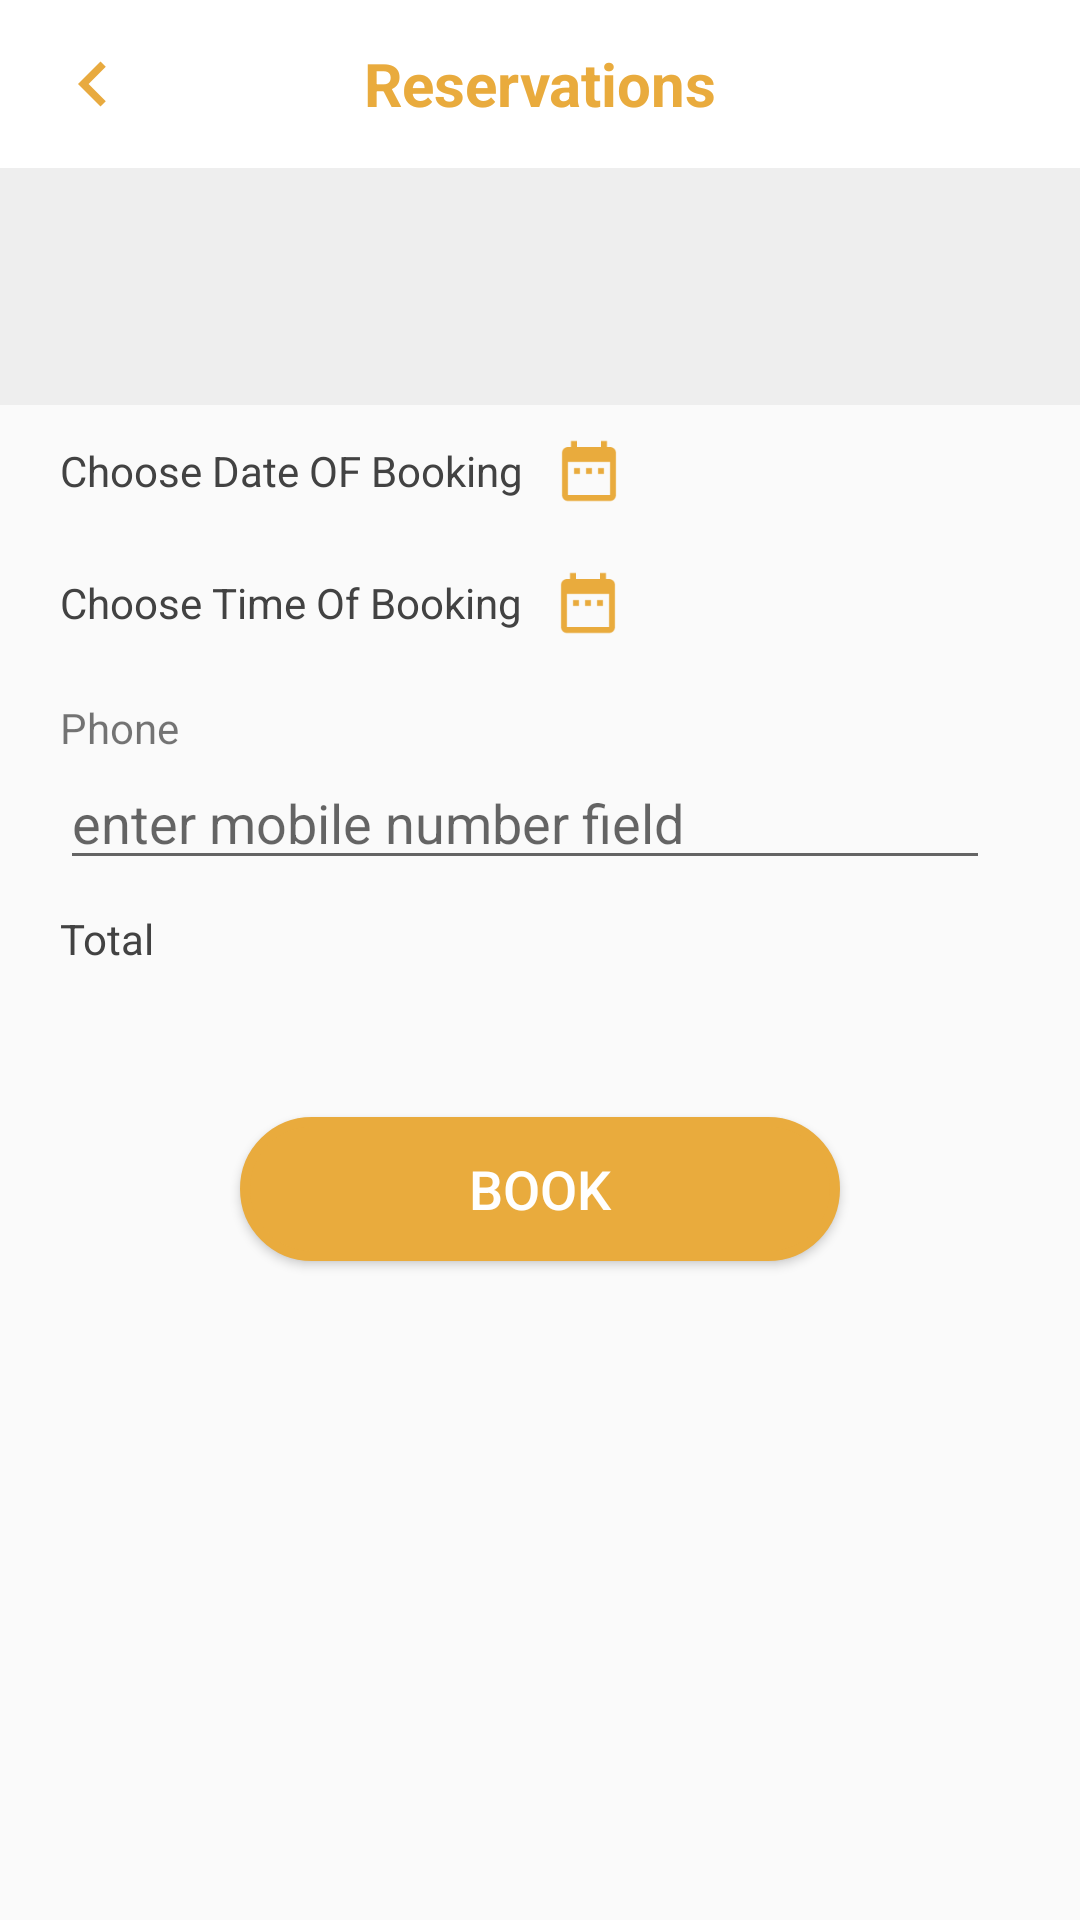

Named icons in this screenshot (1080w x 1920h) and their bounding boxes, bbox=[x1, y1, x2, y2]:
Back to previous: bbox=[78, 61, 106, 107]
press on this image to select date: bbox=[562, 440, 616, 502]
